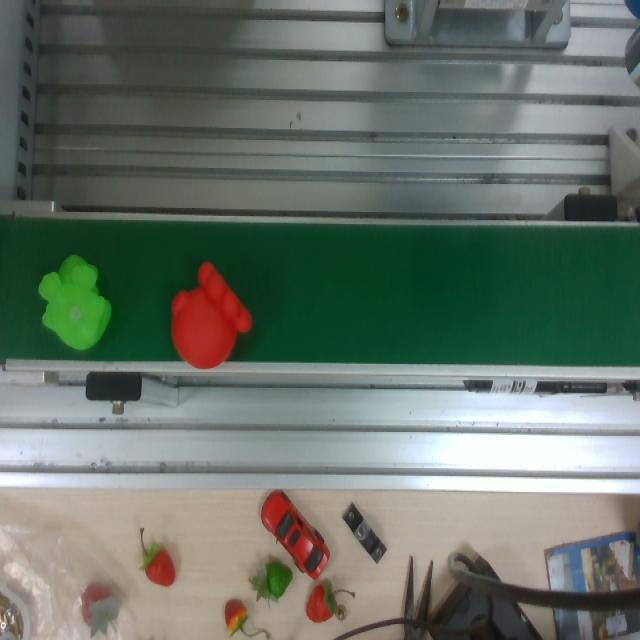Large Unripe Strawberry: (135, 524, 178, 591)
None - Strawberry: (166, 254, 256, 370), (29, 249, 118, 348)
conveyor: (1, 208, 640, 374)
